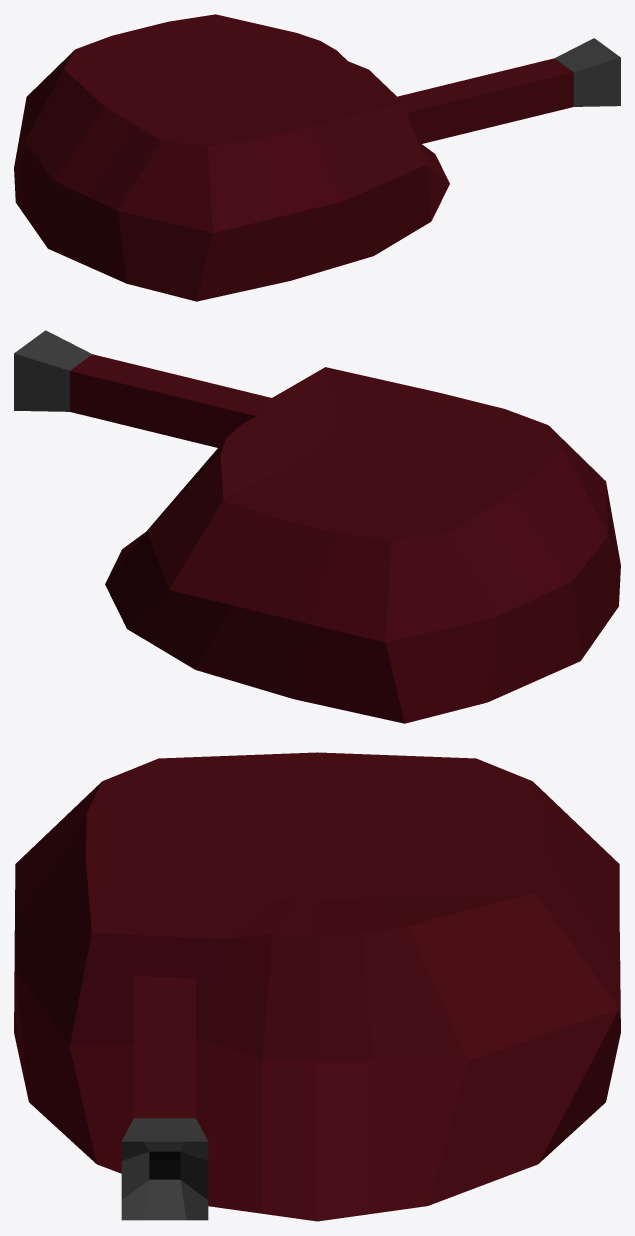
Rendered from enemy.fbx.
3 views of the same model, one above another, from view 1: azimuth 30°, elevation 25°; view 2: azimuth 150°, elevation 25°; view 3: azimuth 270°, elevation 25° (orthographic). The views are drawn at different scales.
Parts seen in each view (by area): view 1: Cube; view 2: Cube; view 3: Cube.
Part boxes in pixels (left/top/right/bottom): Cube: left=14, top=14, right=620, bottom=301; Cube: left=14, top=330, right=620, bottom=723; Cube: left=14, top=752, right=620, bottom=1221.
Size of the model in its own units: 3.56 by 0.8502 by 2.25.
